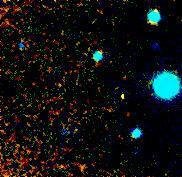star: (107, 79, 137, 109)
